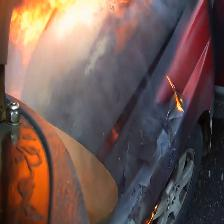fire: (5, 0, 159, 58), (166, 71, 192, 117)
nofire: (1, 103, 87, 224)
smoke: (85, 38, 169, 192)
